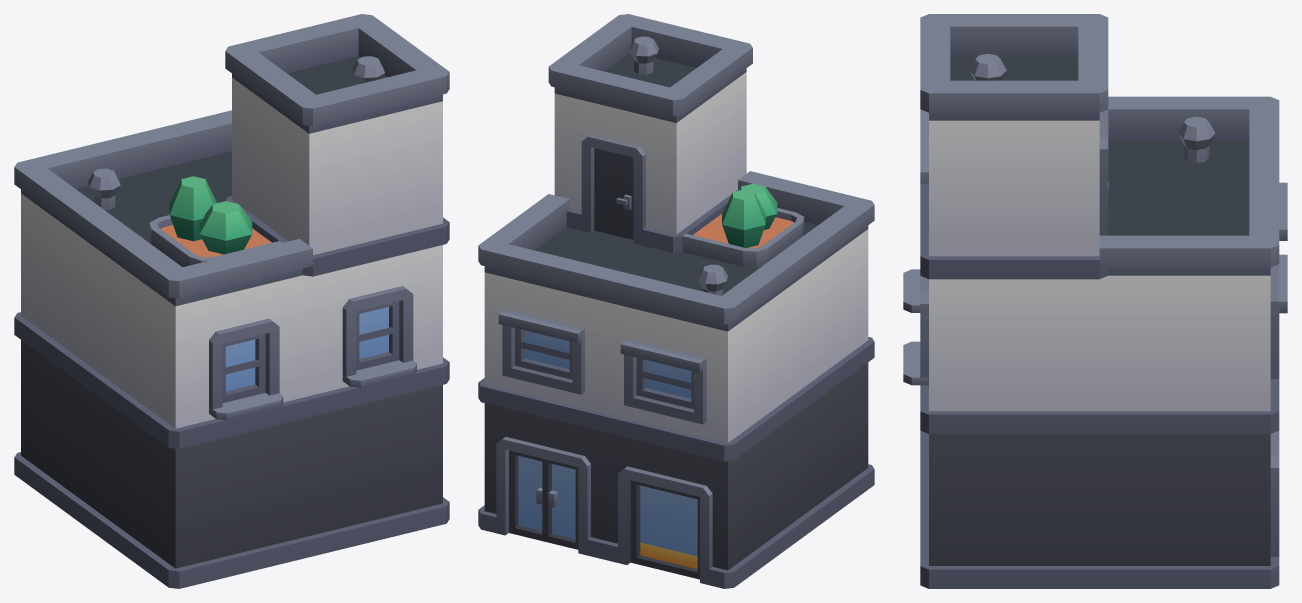
The model's file is commercial__building-d.glb.
3 views of the same model, side by side, from view 1: azimuth 30°, elevation 25°; view 2: azimuth 150°, elevation 25°; view 3: azimuth 270°, elevation 25° (orthographic). The views are drawn at different scales.
Visible parts, largest first — view 1: building-d; view 2: building-d; view 3: building-d.
Boxes of the visible parts, <box> form: building-d: <box>14,14,449,588</box>; building-d: <box>478,14,874,588</box>; building-d: <box>903,14,1287,588</box>.
Bounding box in the file's own units: 0.84 × 1.29 × 0.8999.
Materials: 1 (1 with a texture image).
